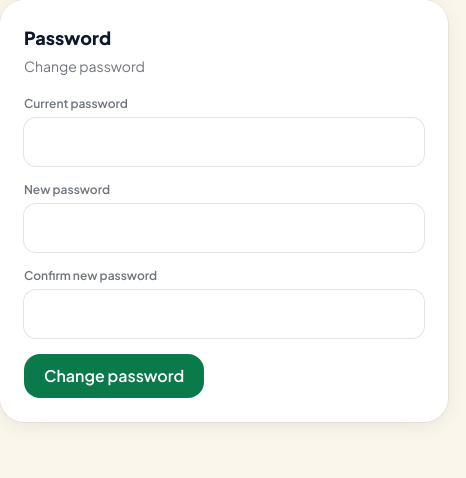
Test: AccountSecurity › shows a friendly message when the current password is wrong (401)
In the password field labelled "Current password": (224, 142) [24, 118, 424, 166], type "oldpass1"
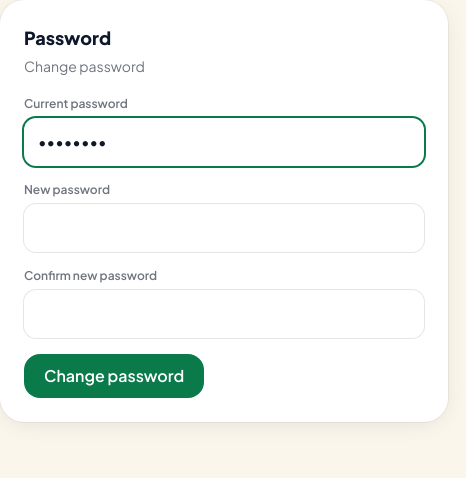
In the password field labelled "New password": (224, 228) [24, 204, 424, 252], type "newpass123"
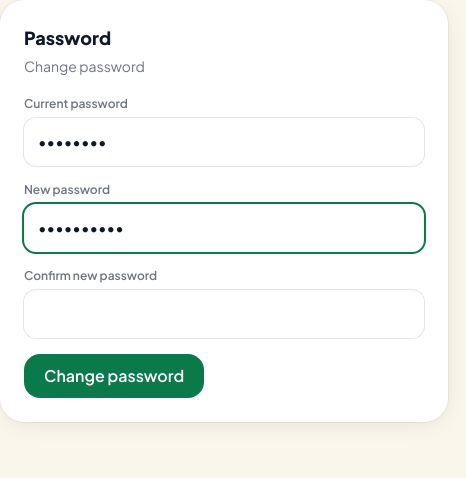
In the password field labelled "Confirm new password": (224, 314) [24, 290, 424, 338], type "newpass123"
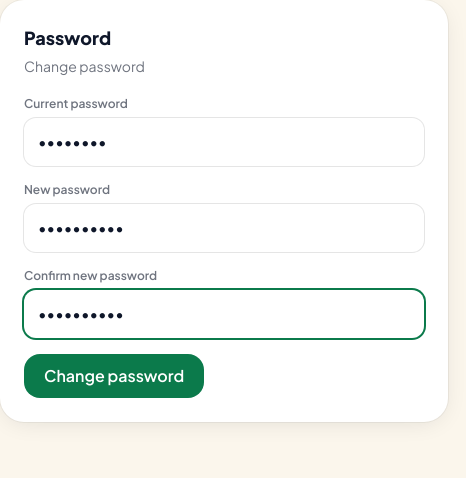
Click the button "Change password": (114, 376) [24, 354, 204, 398]
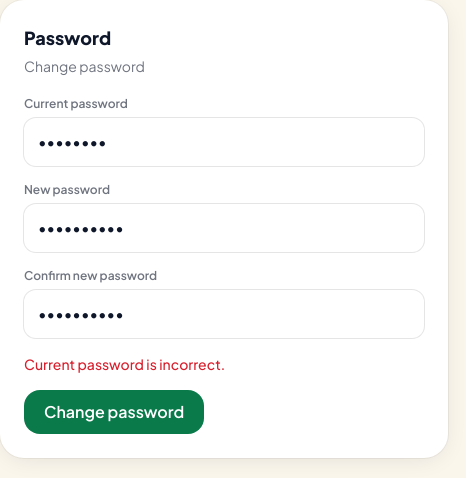
Now the text "Current password is incorrect." is shown, box [24, 355, 225, 373]
